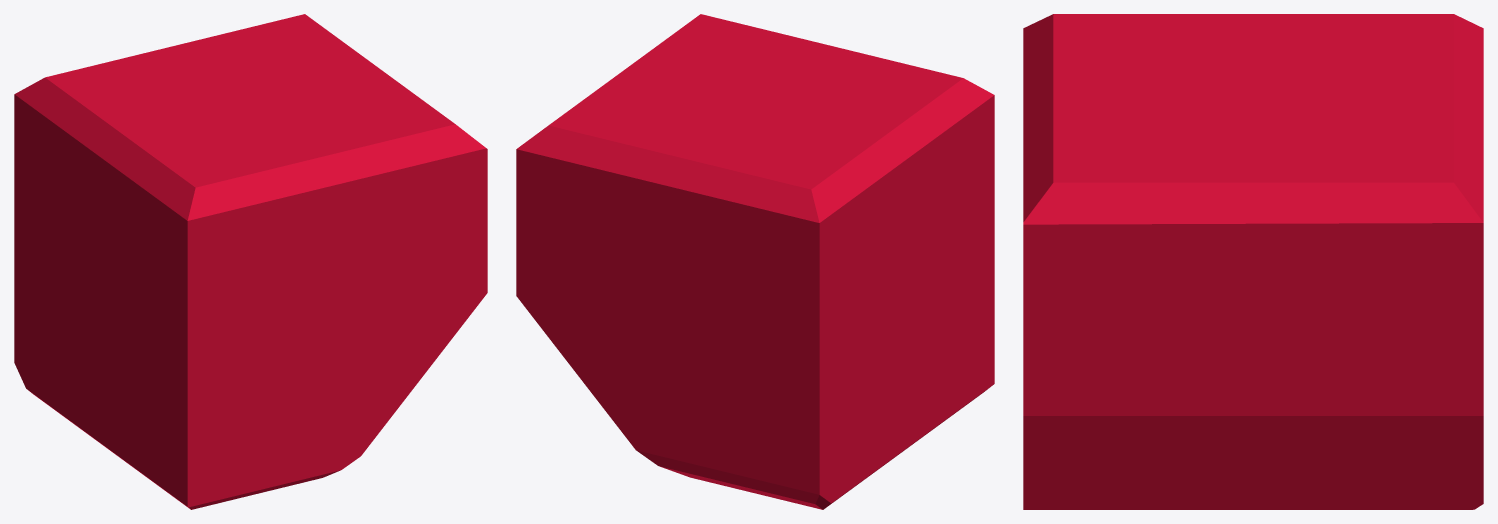
The model's file is testing_GLTF.glb.
3 views of the same model, side by side, from view 1: azimuth 30°, elevation 25°; view 2: azimuth 150°, elevation 25°; view 3: azimuth 270°, elevation 25° (orthographic). The views are drawn at different scales.
Parts seen in each view (by area): view 1: Cube; view 2: Cube; view 3: Cube.
Part boxes in pixels (left/top/right/bottom): Cube: left=14, top=14, right=487, bottom=509; Cube: left=516, top=14, right=994, bottom=509; Cube: left=1023, top=14, right=1483, bottom=509.
Bounding box in the file's own units: 2 × 2 × 2.
